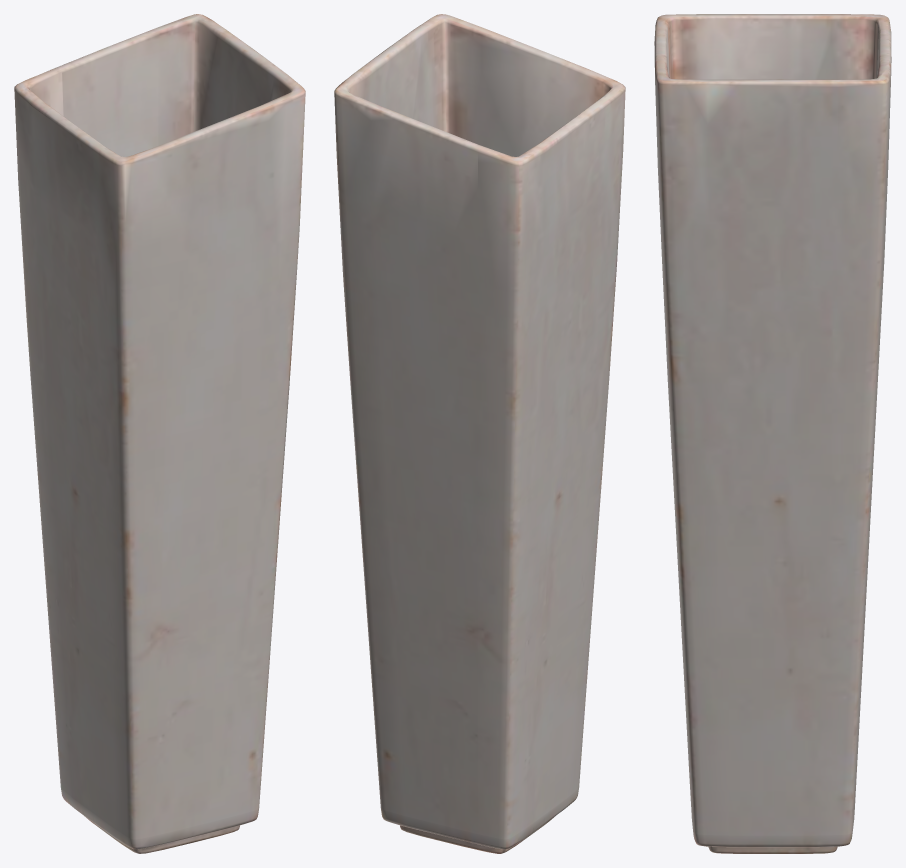
The model's file is ceramic_vase_03.glb.
3 views of the same model, side by side, from view 1: azimuth 30°, elevation 25°; view 2: azimuth 150°, elevation 25°; view 3: azimuth 270°, elevation 25° (orthographic). The views are drawn at different scales.
Visible parts, largest first — view 1: ceramic_vase_03; view 2: ceramic_vase_03; view 3: ceramic_vase_03.
Part boxes in pixels (box(x1,y1,x2,y2)): ceramic_vase_03: box(14, 14, 305, 853); ceramic_vase_03: box(334, 14, 625, 853); ceramic_vase_03: box(654, 14, 891, 853).
Size of the model in its own units: 0.1121 by 0.4143 by 0.1121.
1 material, 1 textured.
